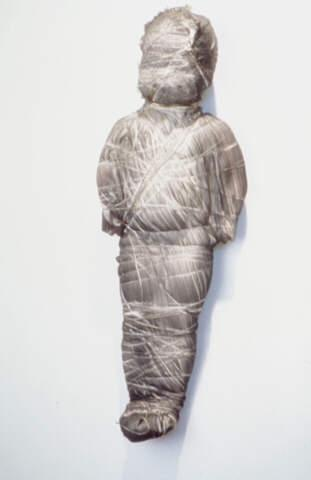person: (96, 8, 249, 443)
